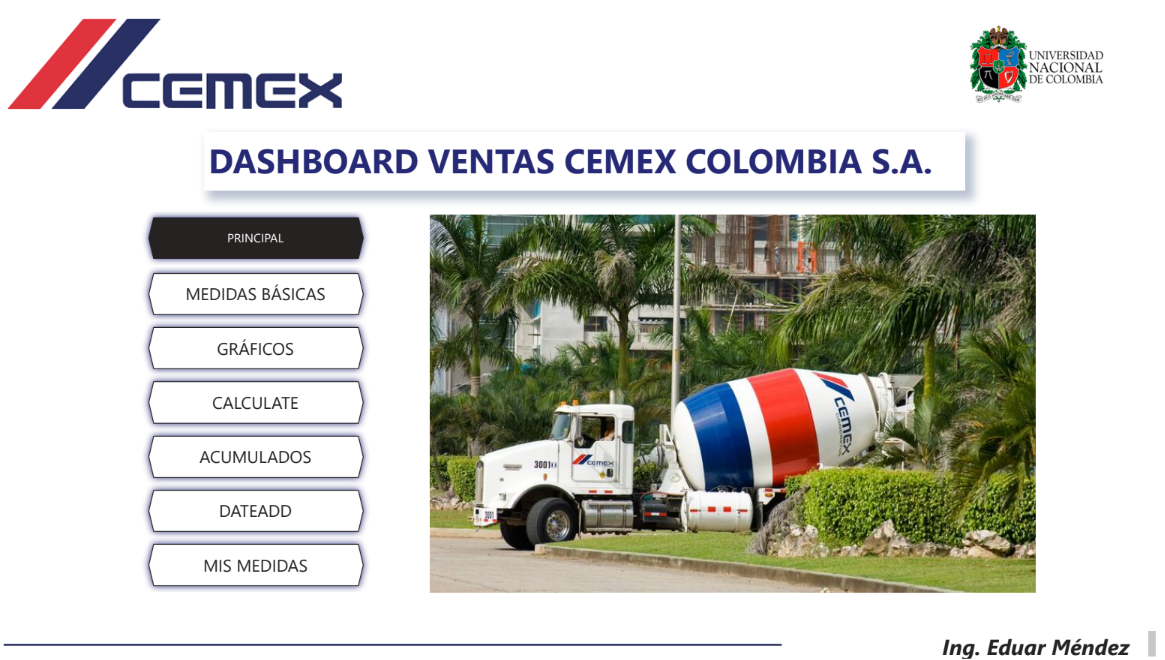

What the dashboard file says about the page in this screenshot:
{"tool":"powerbi","page":{"name":"PRINCIPAL","canvas":[1280,720],"ordinal":0},"visuals":[{"type":"pageNavigator","box":[151.8,219.2,254.7,428.4],"z":0},{"type":"image","box":[0,0,378.7,113.6],"z":1},{"type":"textbox","box":[1033.9,679.6,245.9,40.4],"z":2},{"type":"shape","box":[0,679.6,860.8,40.4],"z":3},{"type":"image","box":[1004.8,0,275.1,113.3],"z":4},{"type":"textbox","box":[220.9,133.2,841.5,64.1],"z":5},{"type":"image","box":[355.8,219.2,902.2,428.4],"z":6}]}

Visuals, with their boxes in screenshot pixels (x1, y1, x2, y2), scaled from the page's 1280x720 canvas onto the 1165x660 screenshot:
pageNavigator: rect(138, 201, 370, 594)
image: rect(0, 0, 345, 104)
textbox: rect(941, 623, 1164, 659)
shape: rect(0, 623, 783, 659)
image: rect(915, 0, 1164, 104)
textbox: rect(201, 122, 967, 181)
image: rect(324, 201, 1145, 594)
